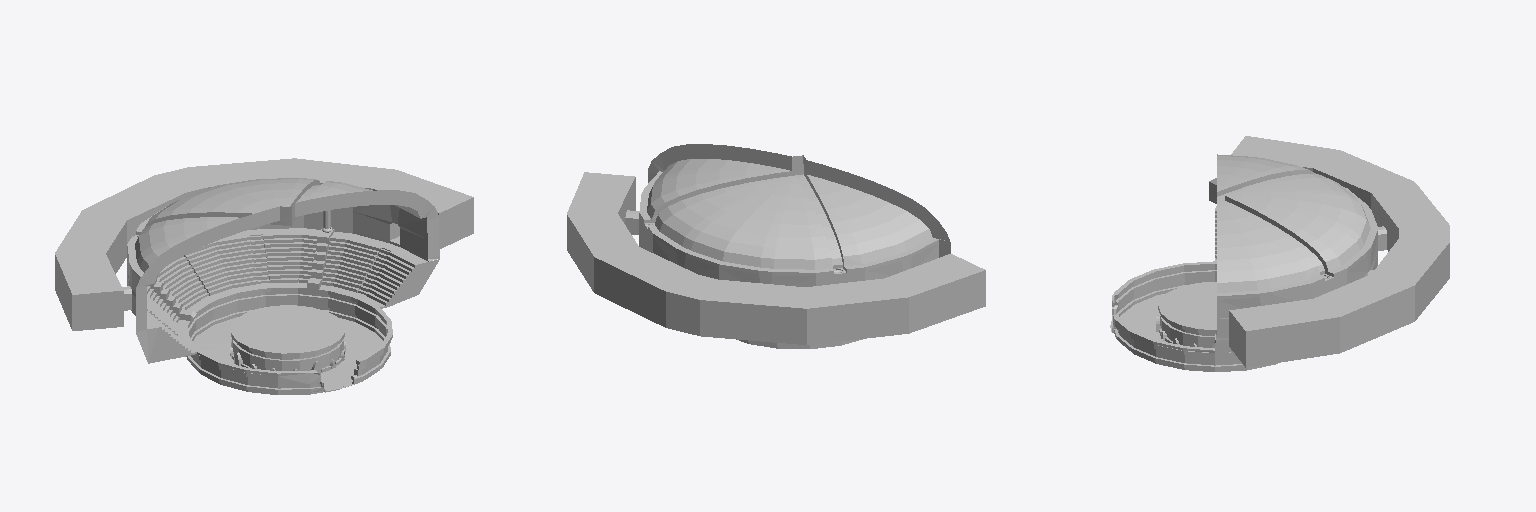
The model's file is Arena.obj.
3 renders of one model, left to right at view 1: azimuth 30°, elevation 25°; view 2: azimuth 150°, elevation 25°; view 3: azimuth 270°, elevation 25°, orthographic.
Visible parts, largest first — view 1: Arene; view 2: Arene; view 3: Arene.
Part boxes in pixels (x1,y1,x2,y2): Arene: (55, 158, 473, 394); Arene: (567, 144, 985, 348); Arene: (1110, 136, 1449, 371).
Bounding box in the file's own units: 475 × 169 × 348.